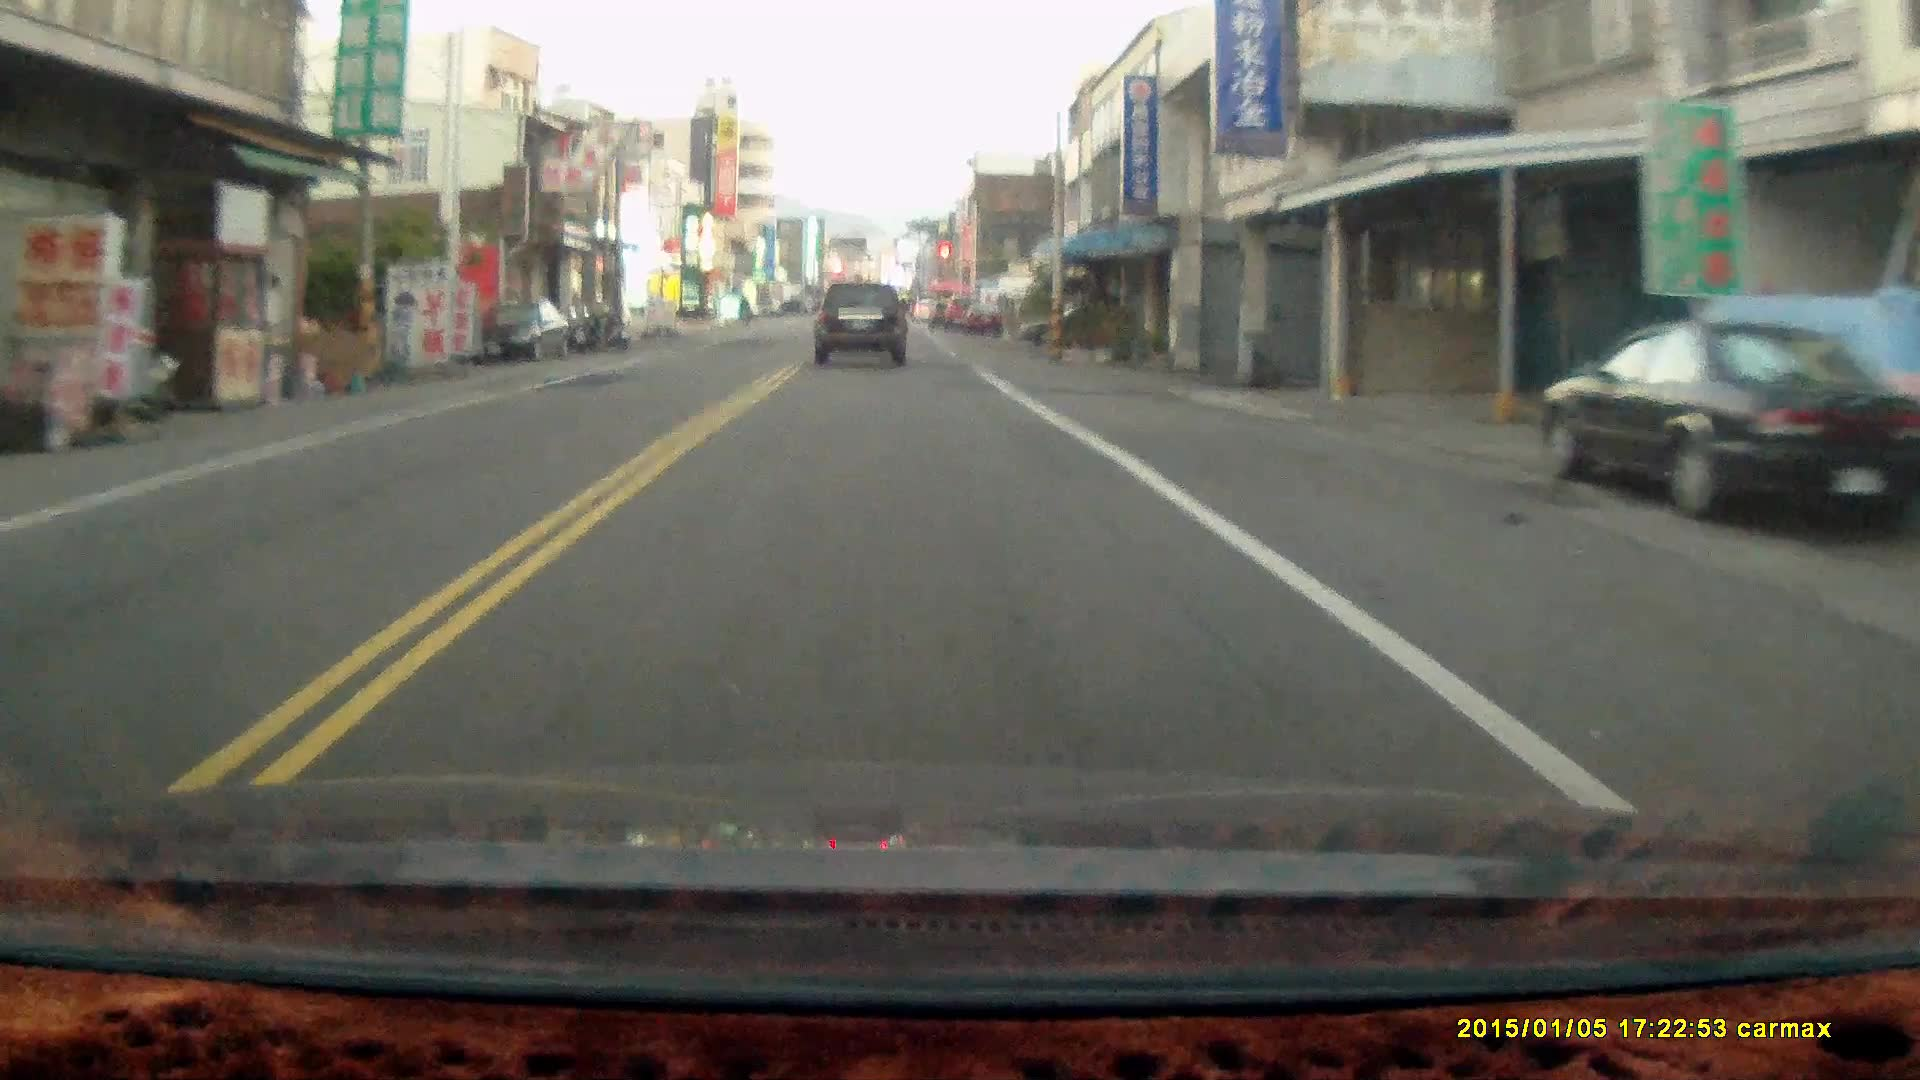vehicle: (1538, 318, 1920, 535), (814, 281, 910, 371)
